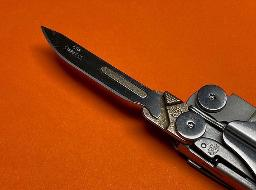scalpel: (40, 26, 256, 190)
